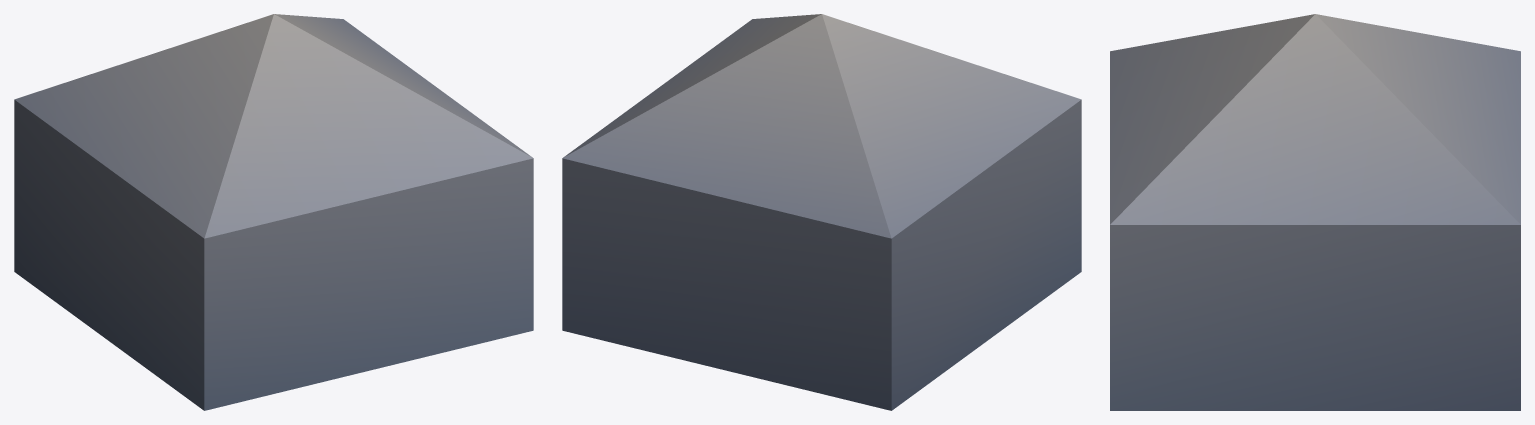
The model's file is monumento.obj.
The picture shows the model from 3 angles, left to right: view 1: azimuth 30°, elevation 25°; view 2: azimuth 150°, elevation 25°; view 3: azimuth 270°, elevation 25°; orthographic projection. The views are drawn at different scales.
Parts seen in each view (by area): view 1: monumento; view 2: monumento; view 3: monumento.
Boxes of the visible parts, left/top/right/bottom form: monumento: left=14, top=14, right=533, bottom=410; monumento: left=562, top=14, right=1081, bottom=410; monumento: left=1110, top=14, right=1520, bottom=410.
Size of the model in its own units: 2.4 by 2 by 2.4.
